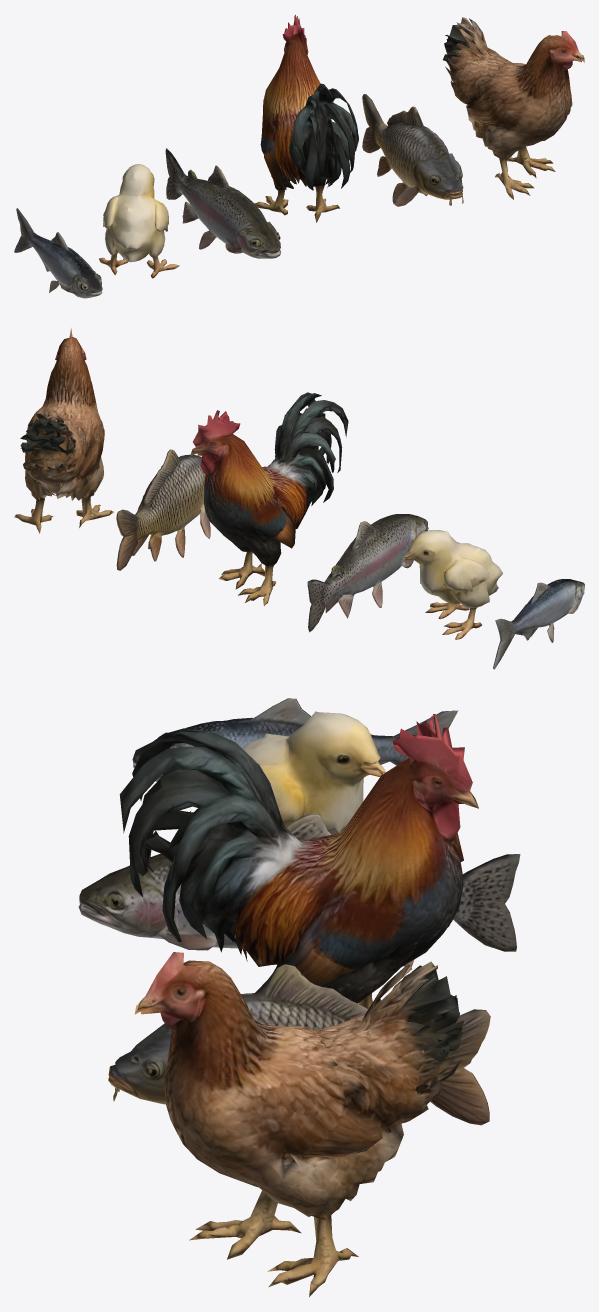
The model's file is poultry_fish_pack.glb.
3 renders of one model, top to bottom at view 1: azimuth 30°, elevation 25°; view 2: azimuth 150°, elevation 25°; view 3: azimuth 270°, elevation 25°, orthographic. The views are drawn at different scales.
Visible parts, largest first — view 1: hen, rooster, carp, trout, chick, fish_small; view 2: rooster, hen, trout, carp, chick, fish_small; view 3: rooster, hen, carp, trout, chick, fish_small.
Boxes of the visible parts, x1,y1,x2,y2 form: hen: (443,17,584,199); rooster: (255,14,358,222); carp: (362,94,463,206); trout: (165,148,280,258); chick: (99,164,179,278); fish_small: (14,208,102,298); rooster: (190,392,348,605); hen: (14,328,113,533); trout: (307,514,428,632); carp: (116,449,210,570); chick: (403,530,502,639); fish_small: (493,579,584,669); rooster: (119,714,478,1008); hen: (134,952,463,1297); carp: (108,964,490,1125); trout: (78,814,520,967); chick: (242,711,385,834); fish_small: (132,698,458,781).
Bounding box in the file's own units: 0.9402 × 0.3173 × 0.3496.
Materials: 1 (1 with a texture image).
